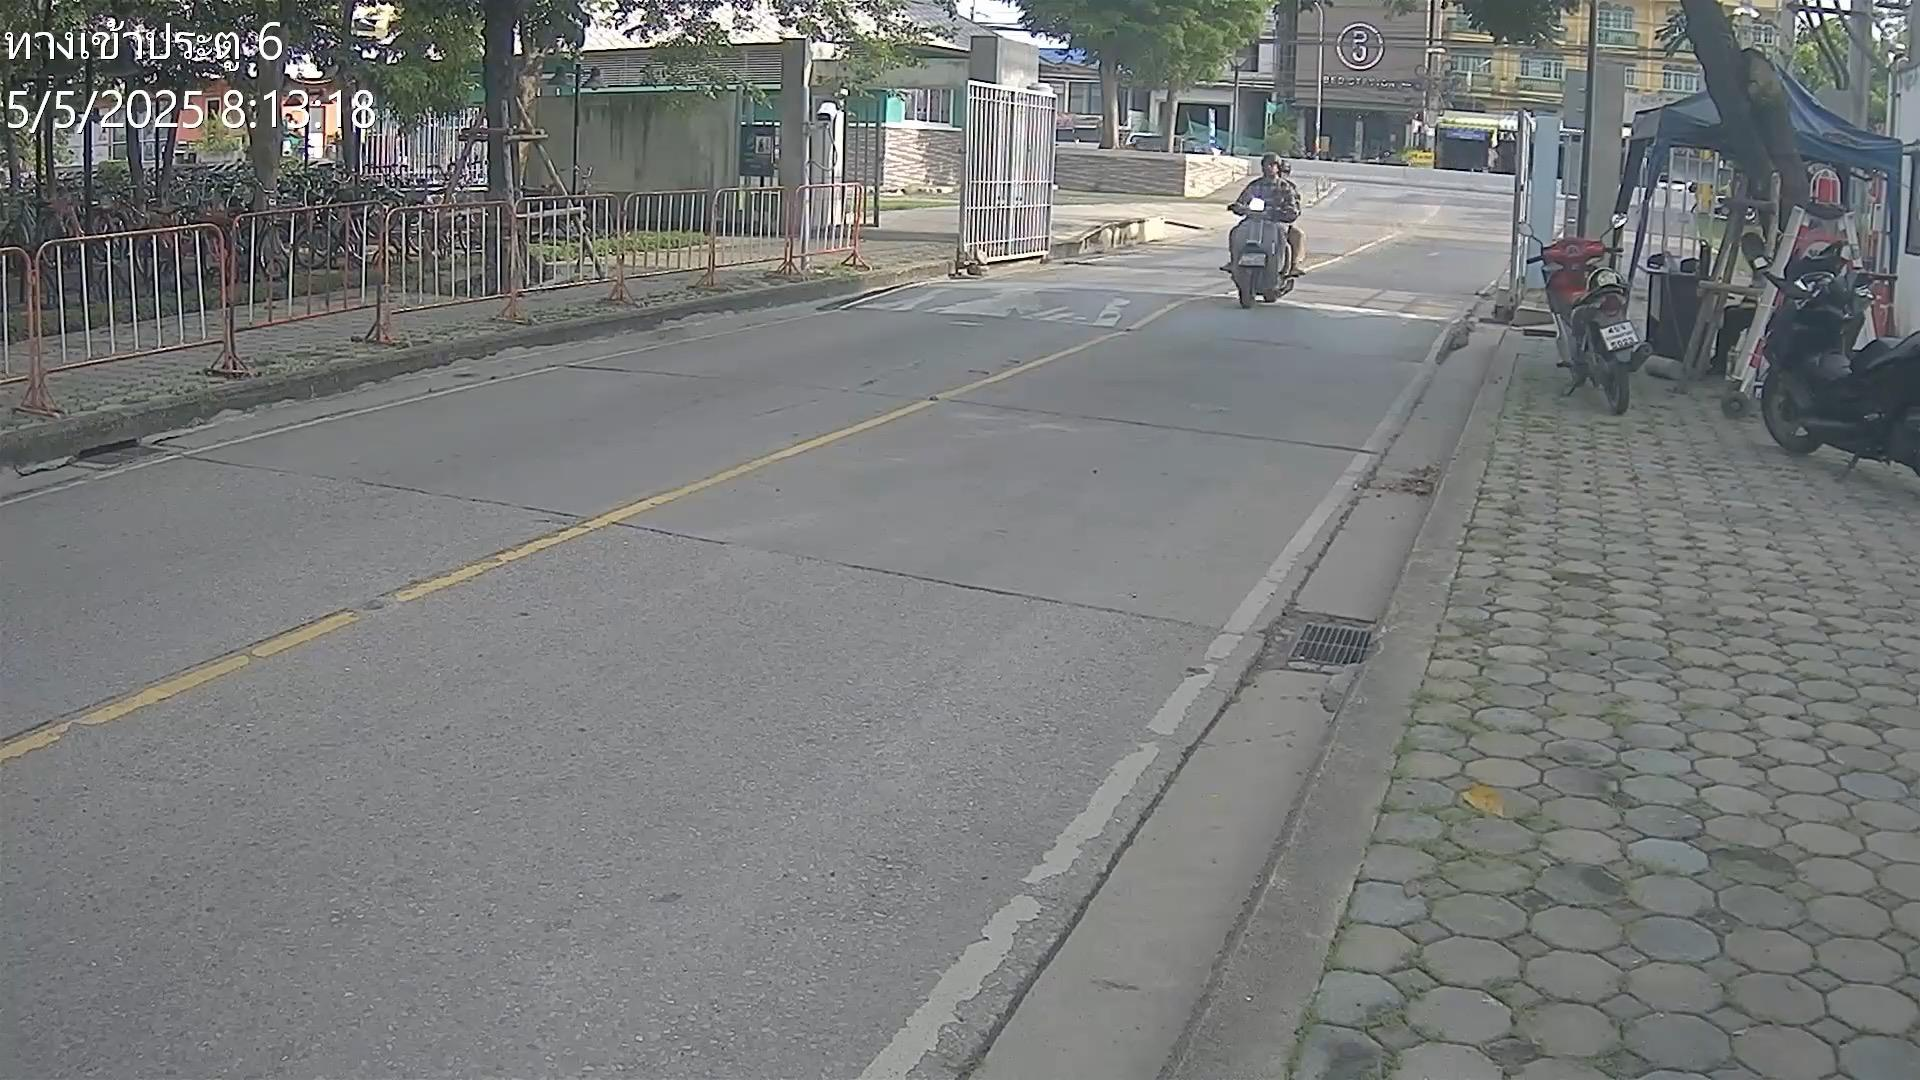With-Helmet: (1259, 149, 1282, 178), (1282, 156, 1292, 179)
